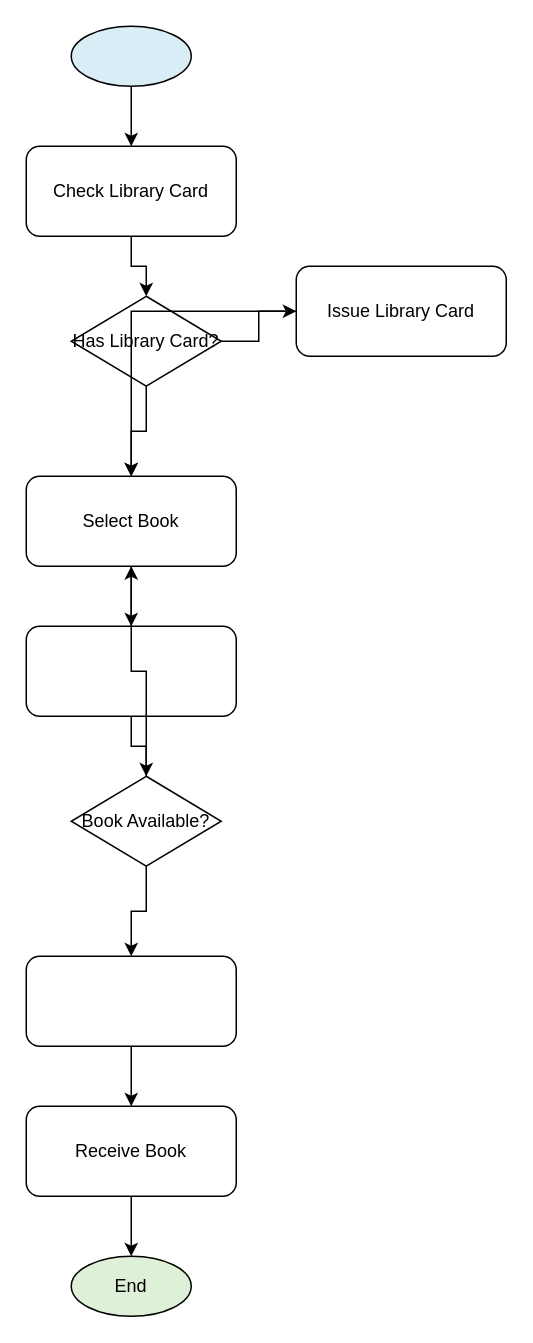
Some shapes in this 533 by 1343 pixel diagram are drawn without their labels. The shapes that lost their labels are listed below. From the top down, each one's centre as x and y in pixels, then its label:
At (x=130, y=55): "Start".
At (x=130, y=670): "Check Book Availability".
At (x=130, y=1000): "Register Book Lending".
